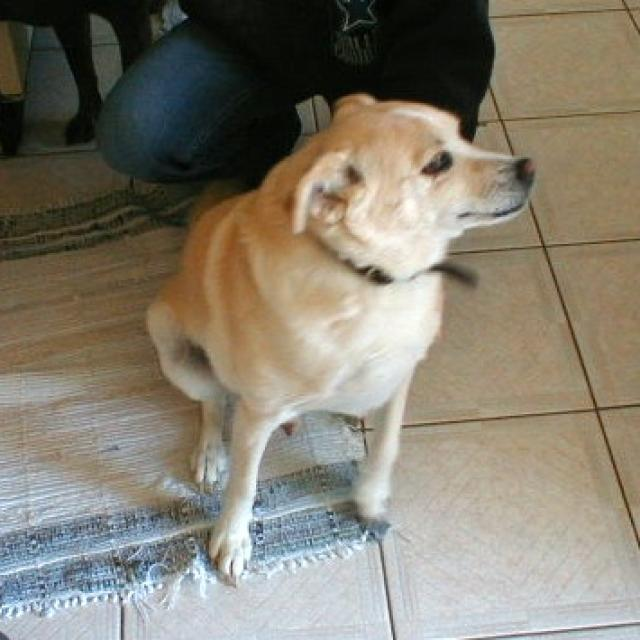Dogs: (142, 89, 536, 586)
